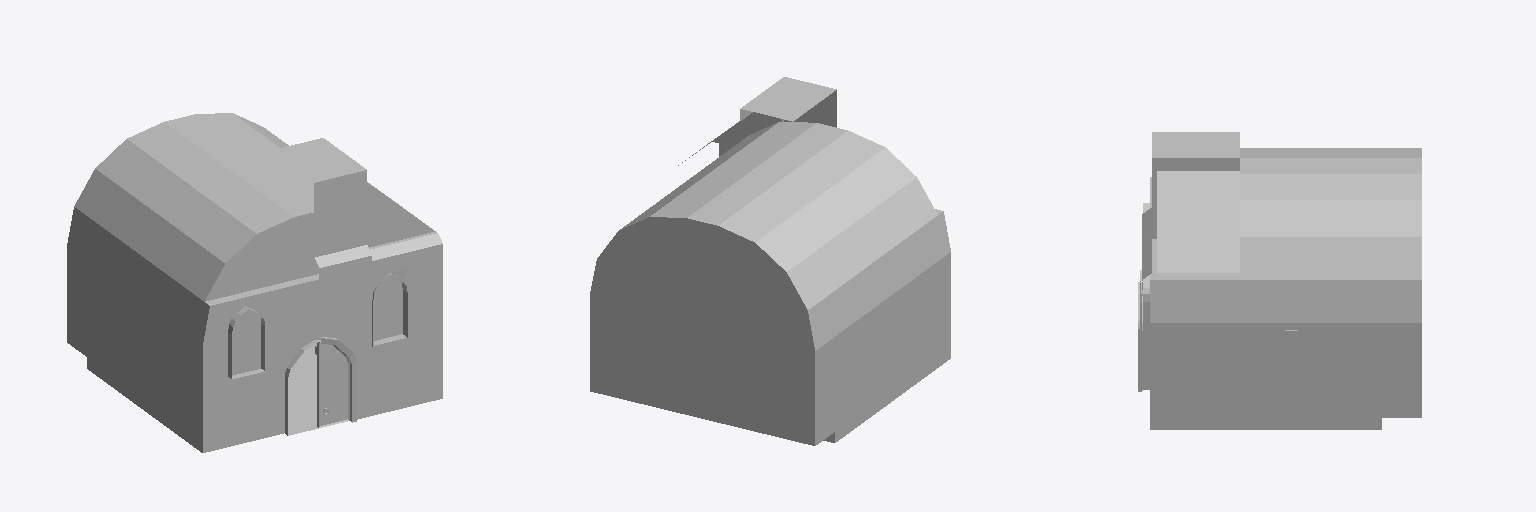
File: churchInterior.obj
3 renders of one model, left to right at view 1: azimuth 30°, elevation 25°; view 2: azimuth 150°, elevation 25°; view 3: azimuth 270°, elevation 25°, orthographic.
Parts seen in each view (by area): view 1: interior_Plane, fachada_Cube_Cube.001, puerta_Cube_Cube.003; view 2: interior_Plane, fachada_Cube_Cube.001; view 3: interior_Plane, fachada_Cube_Cube.001.
Part boxes in pixels (x1,y1,x2,y2): interior_Plane: (67, 113, 406, 452); fachada_Cube_Cube.001: (271, 138, 442, 422); puerta_Cube_Cube.003: (317, 340, 349, 427); interior_Plane: (590, 122, 950, 445); fachada_Cube_Cube.001: (678, 77, 836, 165); interior_Plane: (1143, 148, 1421, 429); fachada_Cube_Cube.001: (1138, 132, 1239, 391).
Bounding box in the file's own units: 62.88 × 61.57 × 65.42.